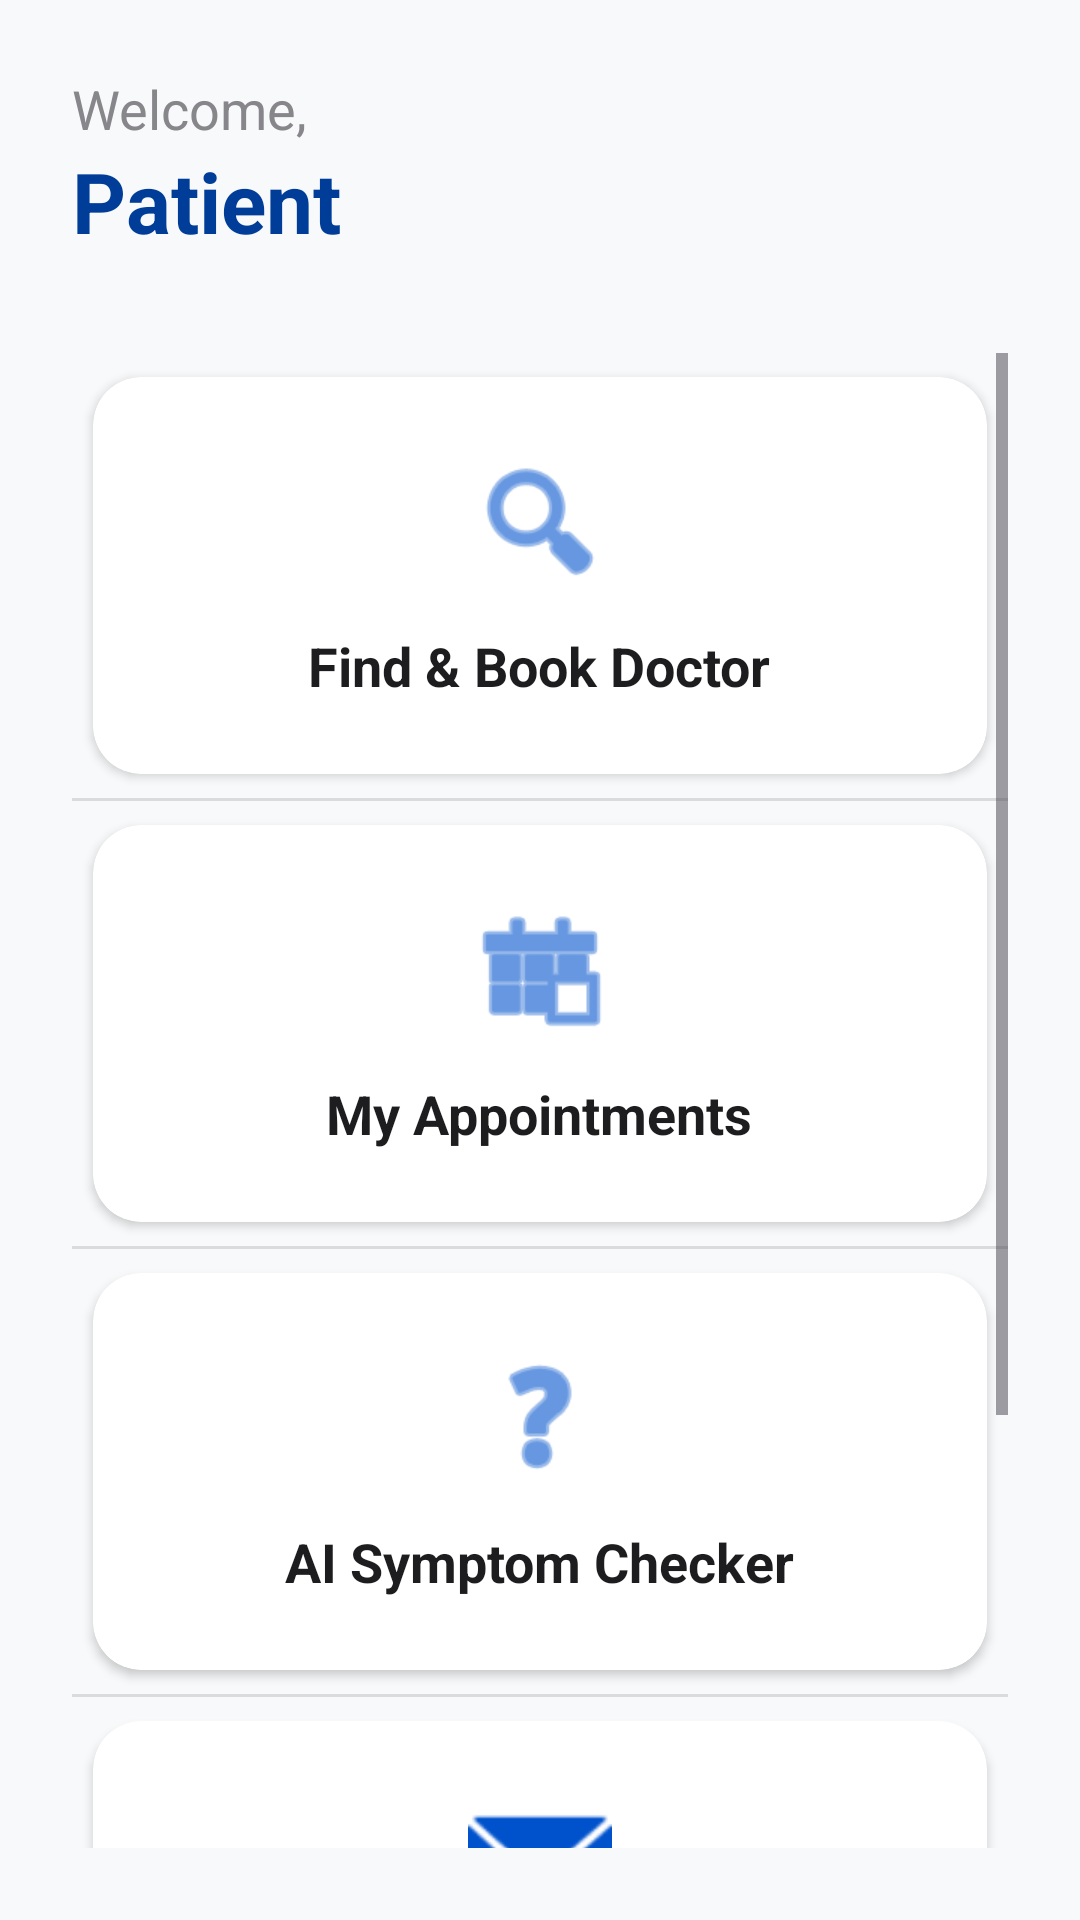

Screen size 1080w x 1920h. Icon name, then its center in pixels as [x,y]:
help: [540,1417]
search: [540,521]
today: [541,971]
